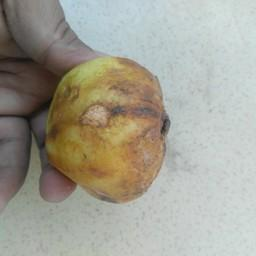Bad_guava: (44, 56, 170, 205)
